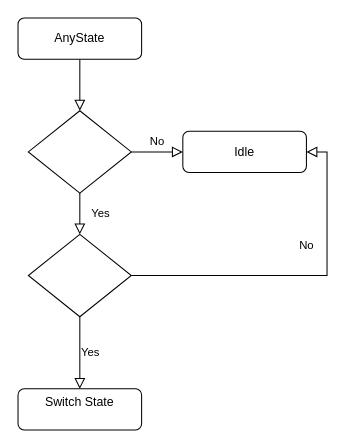
Some shapes in this 355 by 448 pixel diagram are drawn without their labels. Each missing label, with the centre of its shape:
"Find Transittion" goes at pixel 79 275.
"Getting input ?" goes at pixel 79 151.
